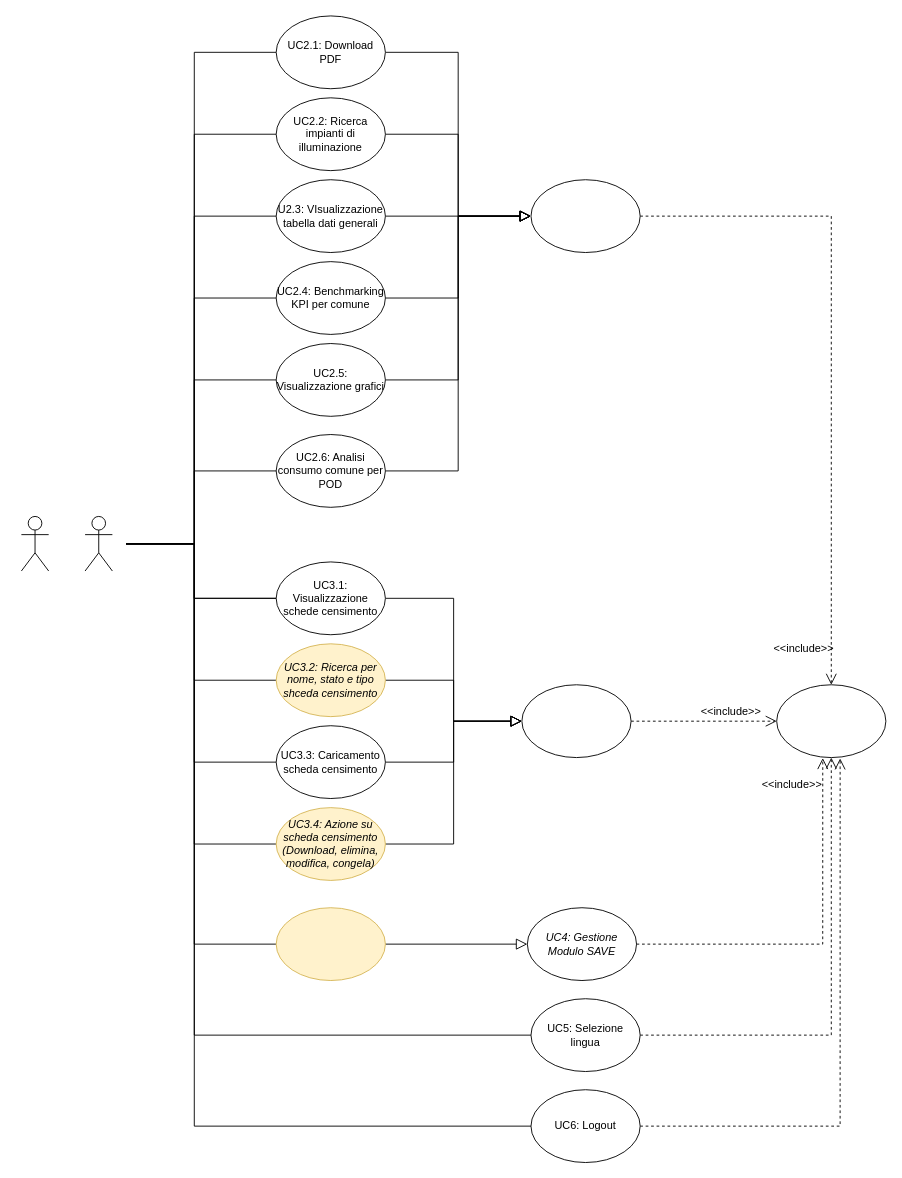
This 902x1178 diagram has some shape labels left out. Each missing label, with the centre of its shape:
"Fornitore" belongs at point 98,543.
"Sindaco" belongs at point 34,543.
"UC1: Login" belongs at point 831,721.
"UC2: Dashboard" belongs at point 585,216.
"UC3: Gestione schede censimento" belongs at point 576,721.
"UC4.4: Visualizzazione risultati" belongs at point 330,944.
